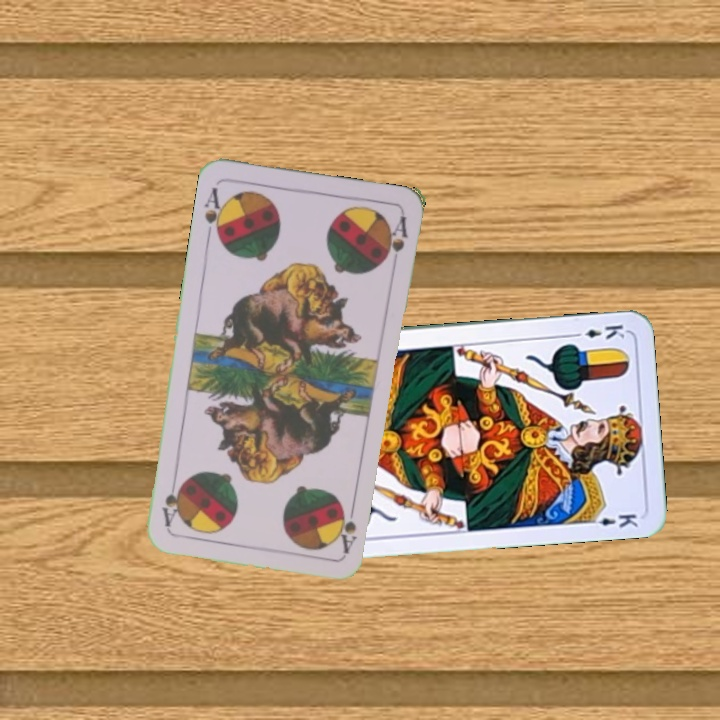EK: (568, 320, 627, 341)
SA: (200, 183, 229, 242), (337, 497, 360, 556)
